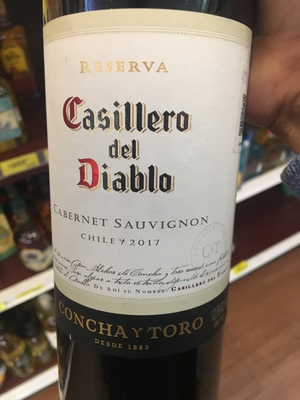casillero del diablo cabernet sauvignon: (40, 1, 254, 399)
